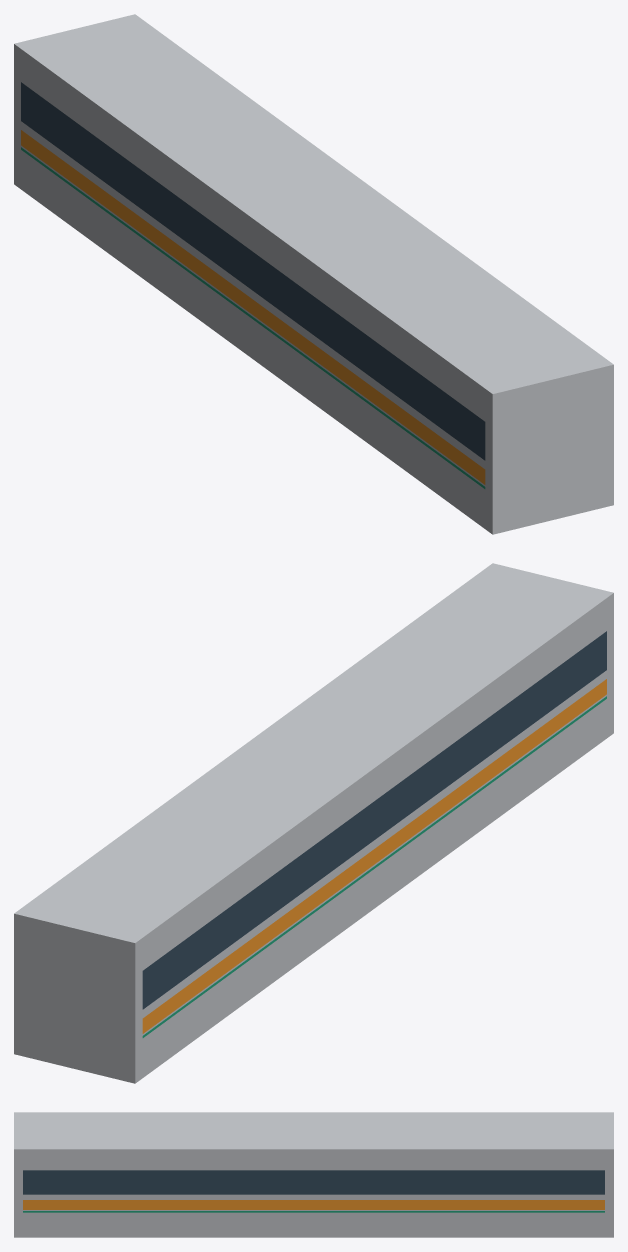
File: middle_4_far.fbx
3 renders of one model, top to bottom at view 1: azimuth 30°, elevation 25°; view 2: azimuth 150°, elevation 25°; view 3: azimuth 270°, elevation 25°, orthographic. The views are drawn at different scales.
Visible parts, largest first — view 1: 20_middle_4_far; view 2: 20_middle_4_far; view 3: 20_middle_4_far.
Part boxes in pixels (x1,y1,x2,y2): 20_middle_4_far: (14,14,613,534); 20_middle_4_far: (14,563,613,1083); 20_middle_4_far: (14,1112,613,1237).
Bounding box in the file's own units: 2.93 × 3.24 × 20.
